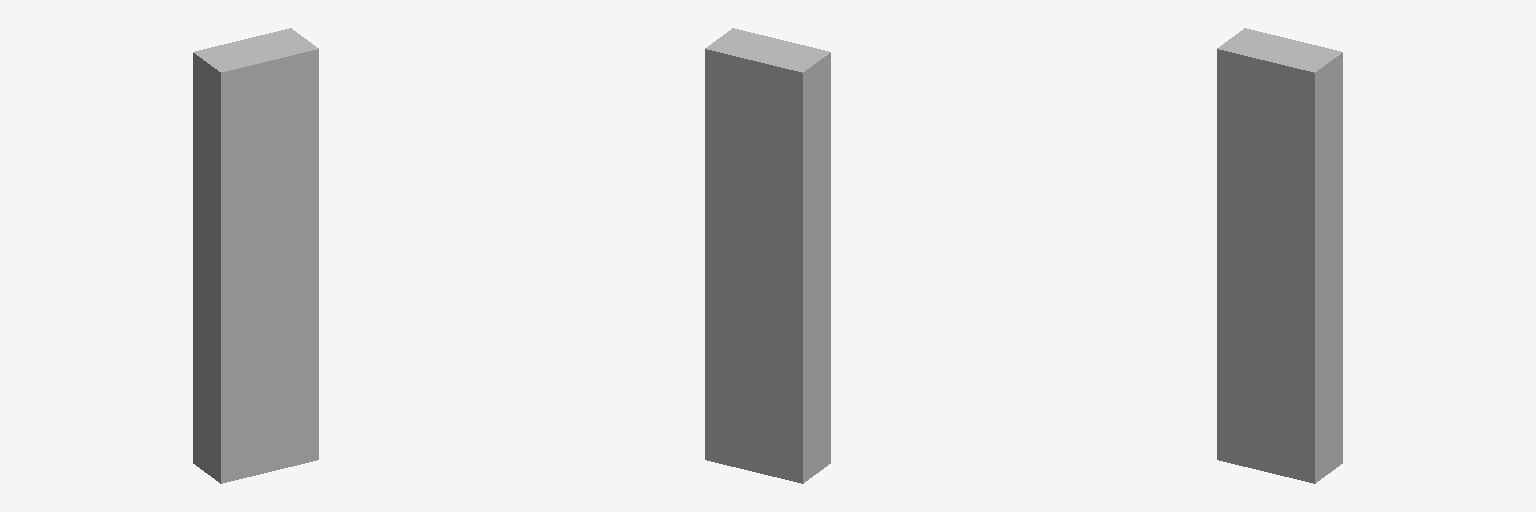
Rendered from basementWallSingleBrick.obj.
The picture shows the model from 3 angles: view 1: azimuth 30°, elevation 25°; view 2: azimuth 150°, elevation 25°; view 3: azimuth 330°, elevation 25°; orthographic projection.
Visible parts, largest first — view 1: basementWallSingleBrick; view 2: basementWallSingleBrick; view 3: basementWallSingleBrick.
Part boxes in pixels (bbox=[...]): basementWallSingleBrick: bbox=[193, 28, 318, 483]; basementWallSingleBrick: bbox=[705, 28, 830, 483]; basementWallSingleBrick: bbox=[1217, 28, 1342, 483].
Size of the model in its own units: 16 by 64 by 8.